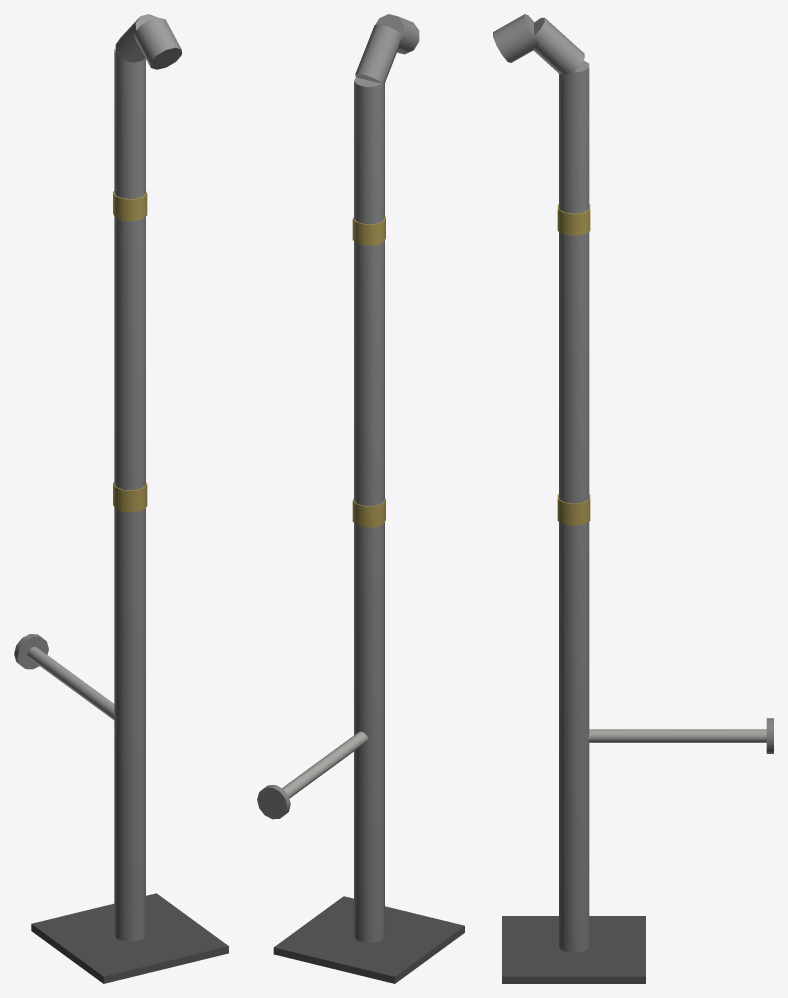
The model's file is flVent_steel.glb.
3 renders of one model, left to right at view 1: azimuth 30°, elevation 25°; view 2: azimuth 150°, elevation 25°; view 3: azimuth 270°, elevation 25°, orthographic. The views are drawn at different scales.
Parts seen in each view (by area): view 1: flVent_steel; view 2: flVent_steel; view 3: flVent_steel.
Part boxes in pixels (x1,y1,x2,y2): flVent_steel: [14, 14, 228, 983]; flVent_steel: [257, 14, 464, 983]; flVent_steel: [493, 14, 773, 983].
Bounding box in the file's own units: 0.36 × 2.59 × 0.7027.
